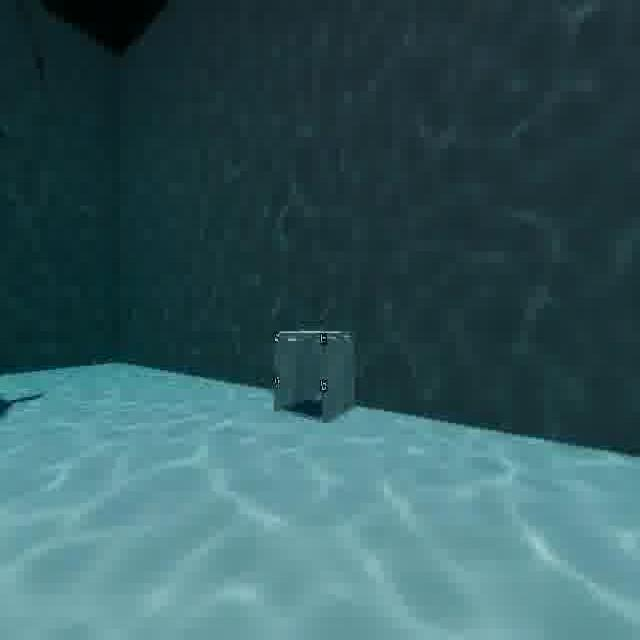Docking Station: (263, 313, 367, 433)
